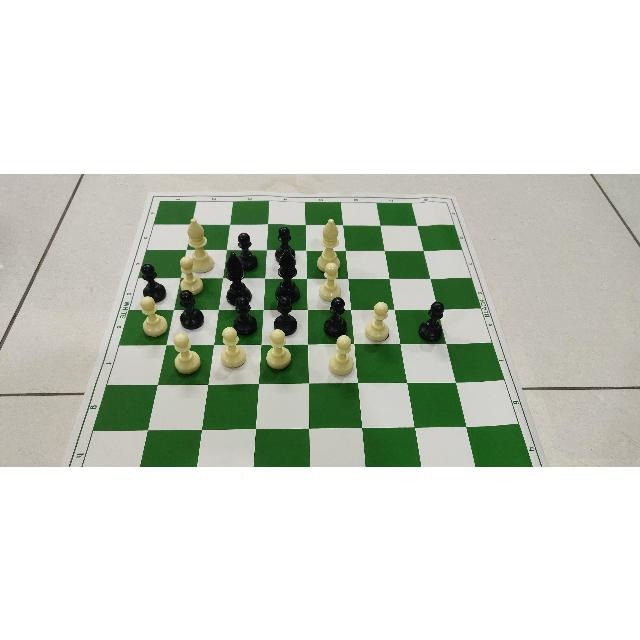black-bishop: (274, 247, 302, 305), (224, 249, 252, 305)
black-pawn: (418, 299, 446, 341), (140, 262, 168, 302), (179, 288, 205, 329), (233, 294, 258, 336), (323, 296, 348, 338), (235, 231, 261, 271), (274, 293, 298, 335), (274, 225, 296, 261)
white-bishop: (186, 216, 216, 273), (315, 217, 342, 272)
white-pawn: (171, 330, 201, 375), (138, 295, 168, 337), (219, 325, 247, 367), (363, 300, 391, 341), (266, 327, 292, 371), (328, 333, 354, 375), (178, 254, 204, 295), (317, 262, 342, 302)
